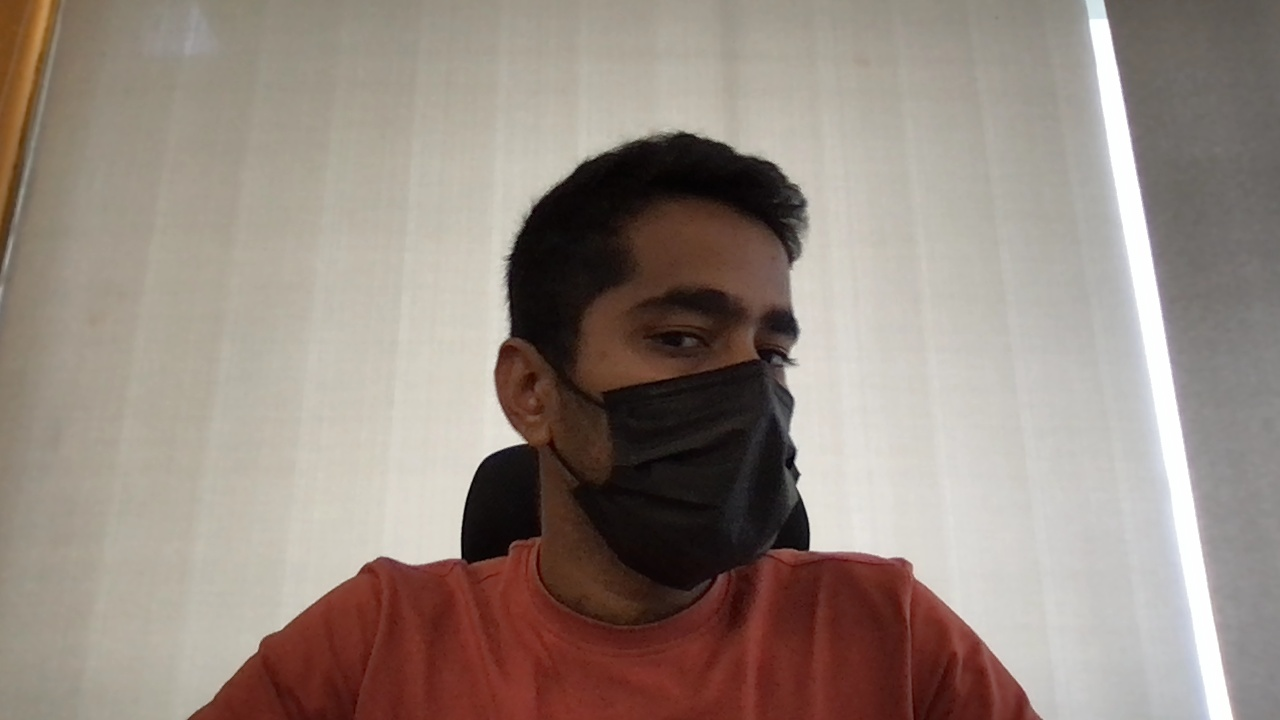mask: (601, 359, 803, 589)
